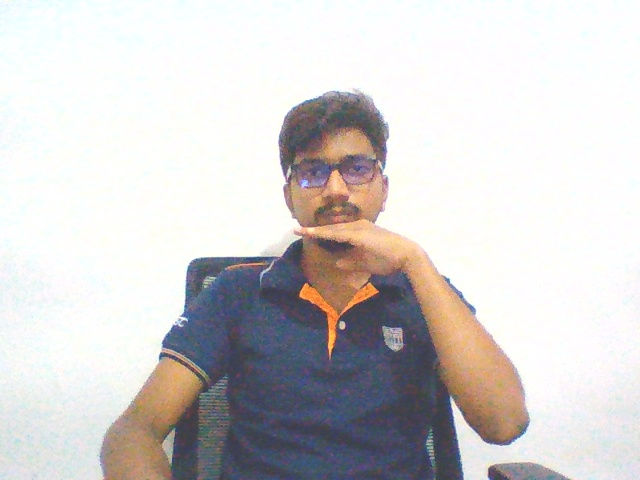elephant: (287, 215, 425, 289)
